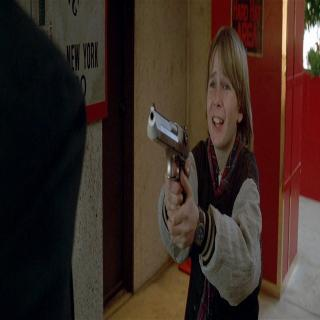gun: (145, 105, 199, 244)
